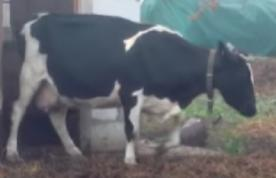cow: (6, 13, 257, 166)
